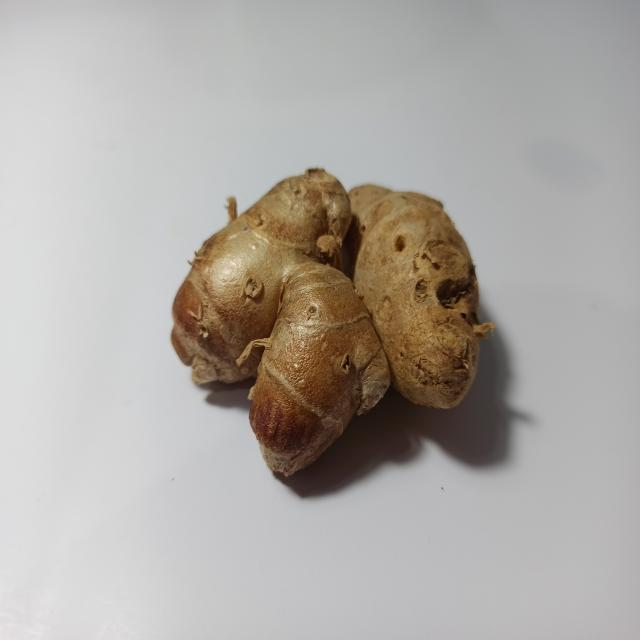ginger: (177, 146, 474, 446)
